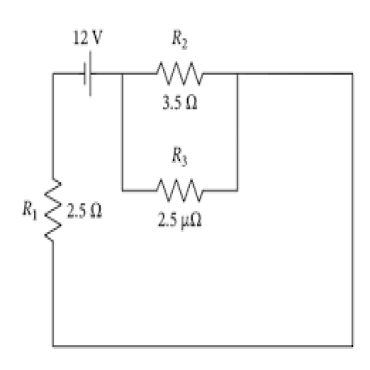Resistor: (21, 177, 106, 242), (154, 29, 205, 115), (156, 146, 205, 232)
Voltage Source: (70, 27, 105, 99)
